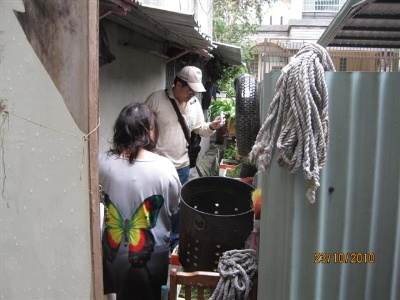bucket: (179, 175, 255, 271)
tire: (235, 73, 261, 156)
